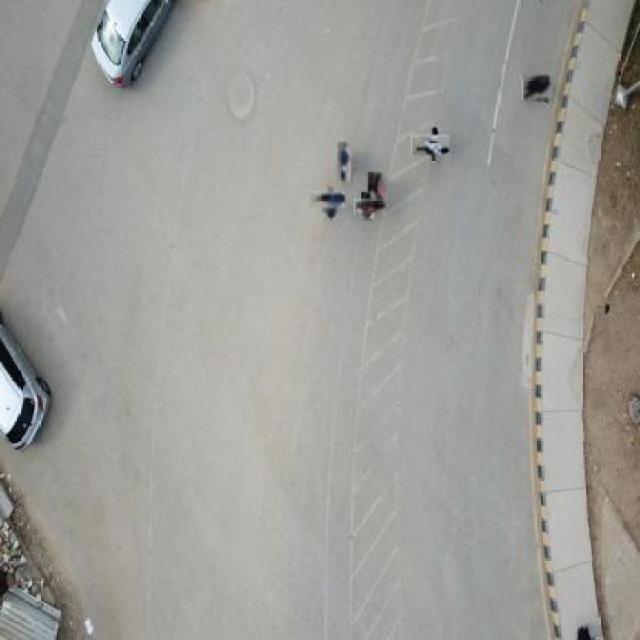Person: (416, 131, 446, 160), (368, 172, 386, 214), (315, 187, 342, 215), (524, 75, 551, 102), (338, 141, 352, 184), (358, 195, 379, 218)
